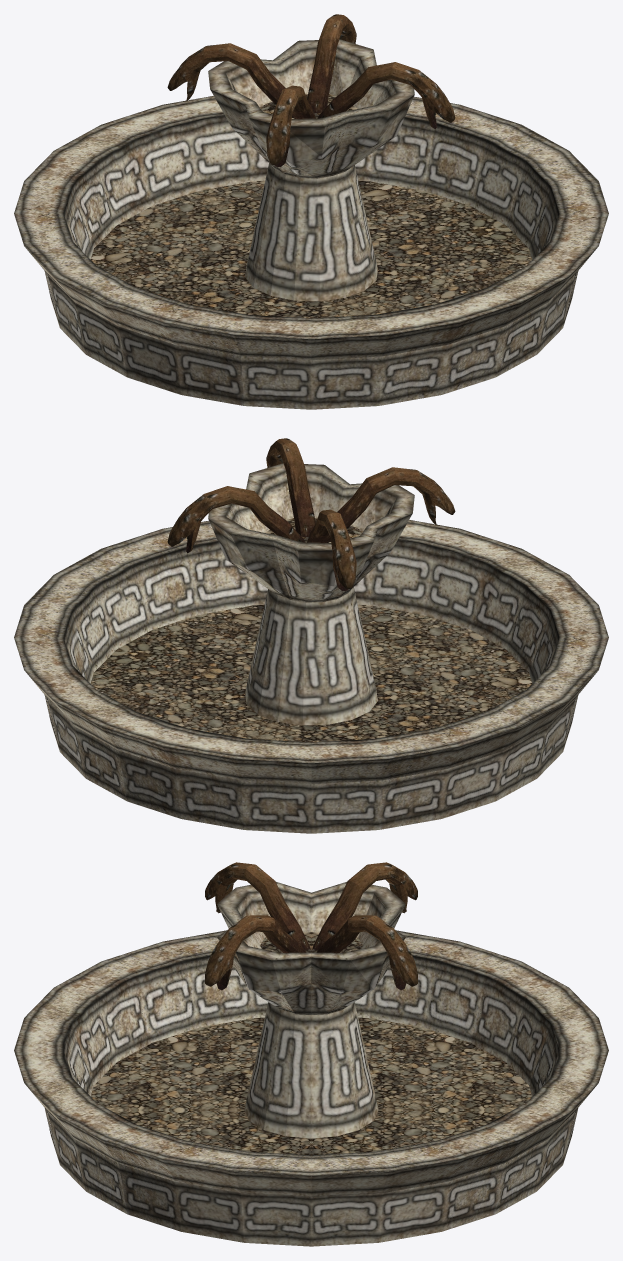
The model's file is fountain.obj.
3 views of the same model, one above another, from view 1: azimuth 30°, elevation 25°; view 2: azimuth 150°, elevation 25°; view 3: azimuth 270°, elevation 25° (orthographic).
Parts seen in each view (by area): view 1: fountain_Cylinder.003; view 2: fountain_Cylinder.003; view 3: fountain_Cylinder.003.
Boxes of the visible parts, x1,y1,x2,y2 form: fountain_Cylinder.003: [14, 14, 608, 409]; fountain_Cylinder.003: [14, 438, 608, 833]; fountain_Cylinder.003: [14, 862, 608, 1246].
Size of the model in its own units: 6.93 by 3.15 by 6.93.
